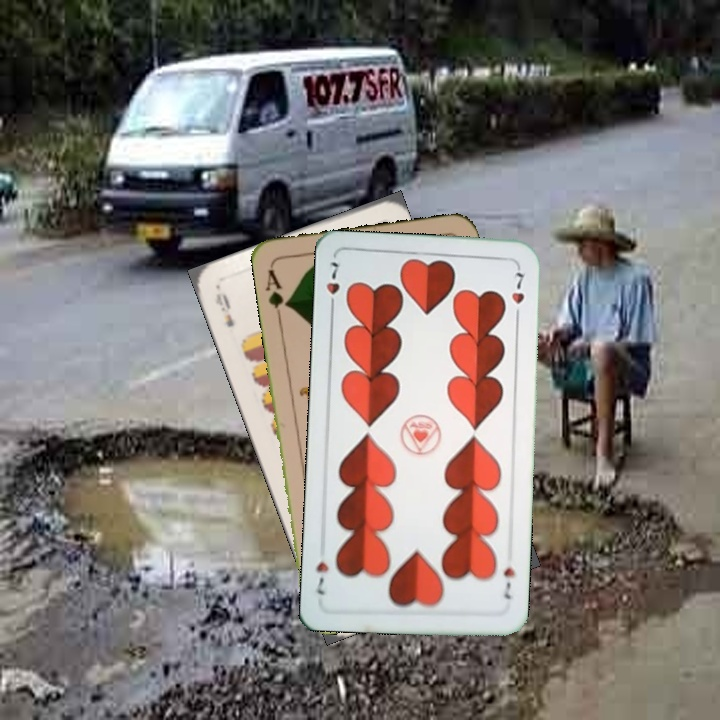E9: (211, 289, 237, 330)
GA: (262, 265, 292, 322)
H7: (322, 257, 342, 314), (499, 563, 517, 601)
